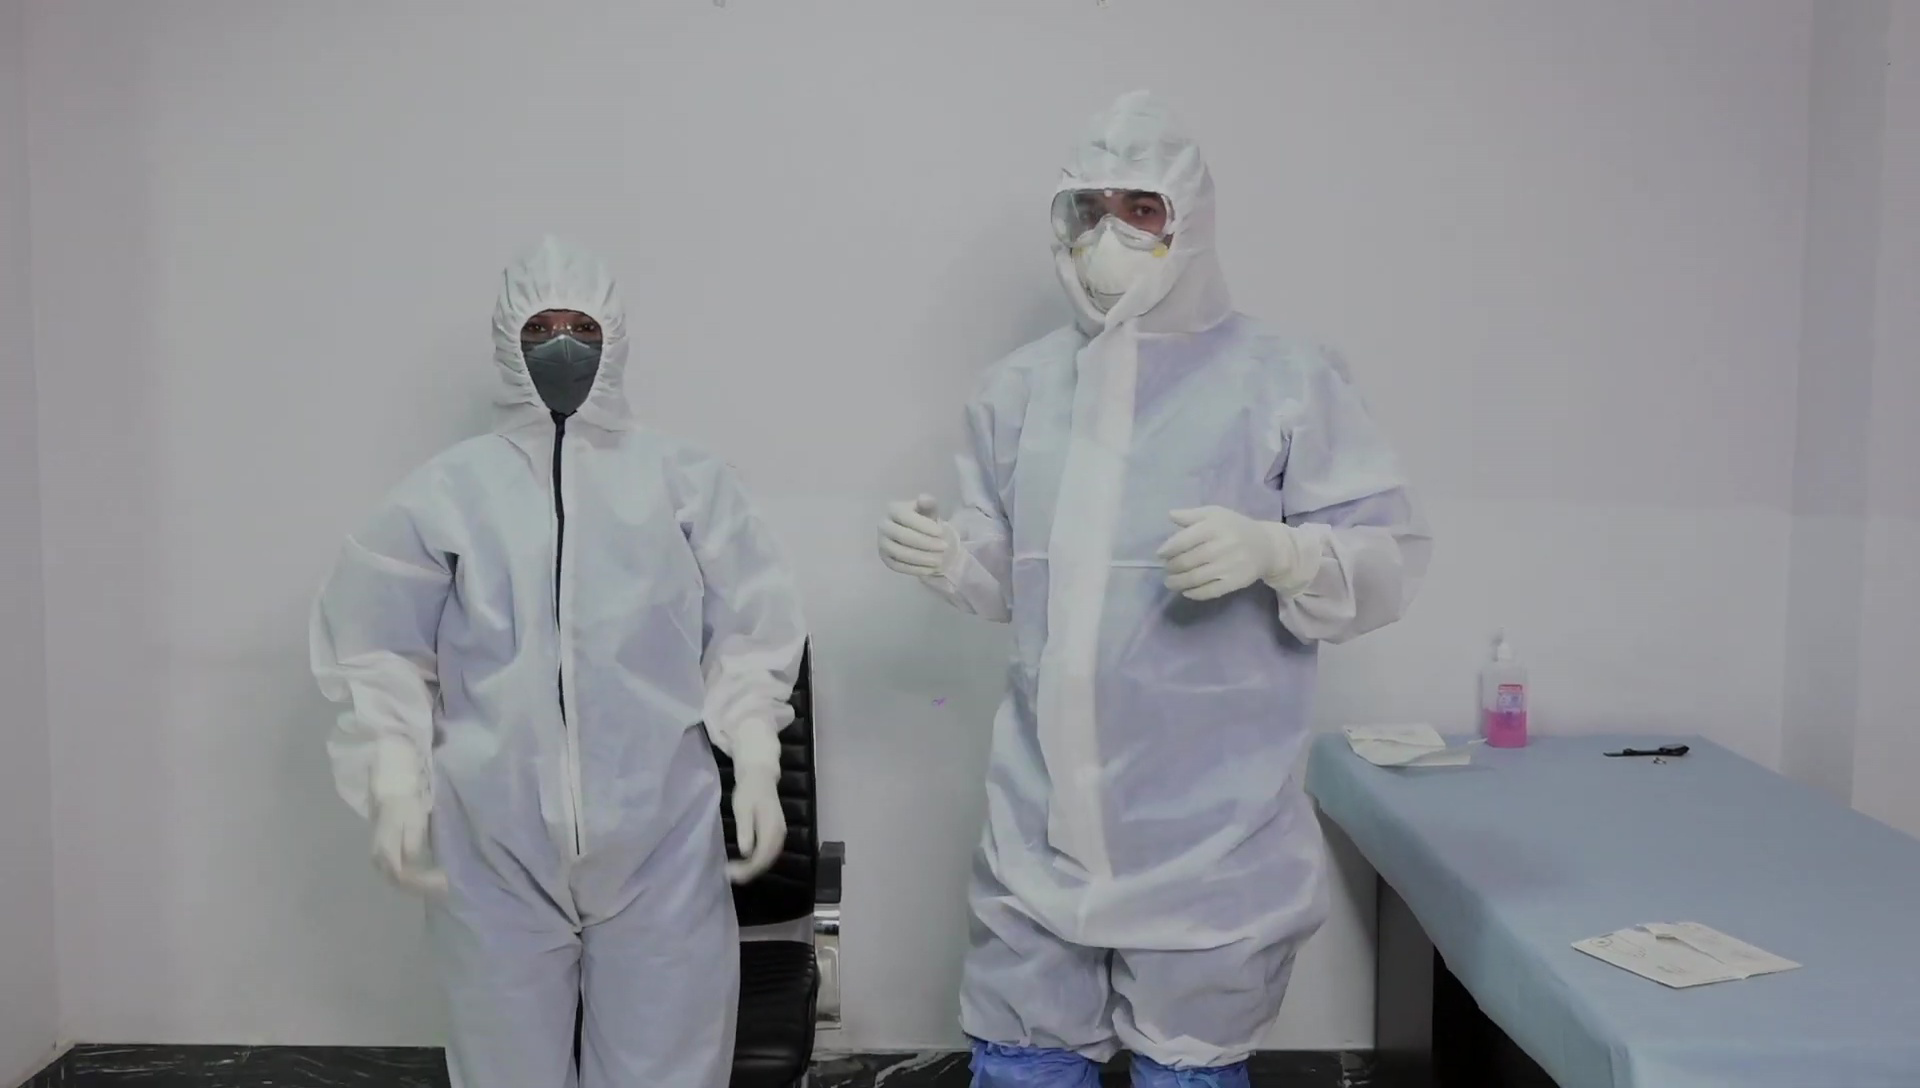Coverall: (919, 90, 1432, 1082), (311, 232, 807, 1085)
Gloves: (1155, 503, 1273, 608), (719, 774, 788, 885), (366, 807, 448, 898), (874, 491, 955, 578)
Goggles: (1046, 181, 1175, 257)
with_mask: (1069, 207, 1172, 316), (525, 322, 601, 414)
